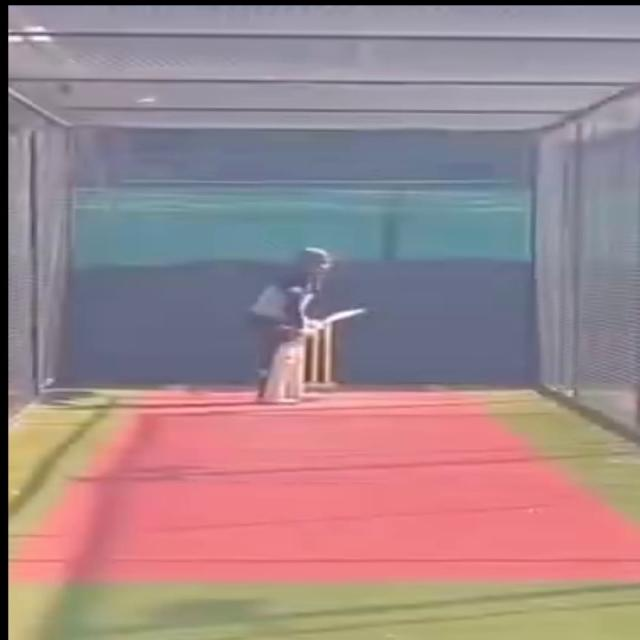stump: (298, 318, 336, 389)
